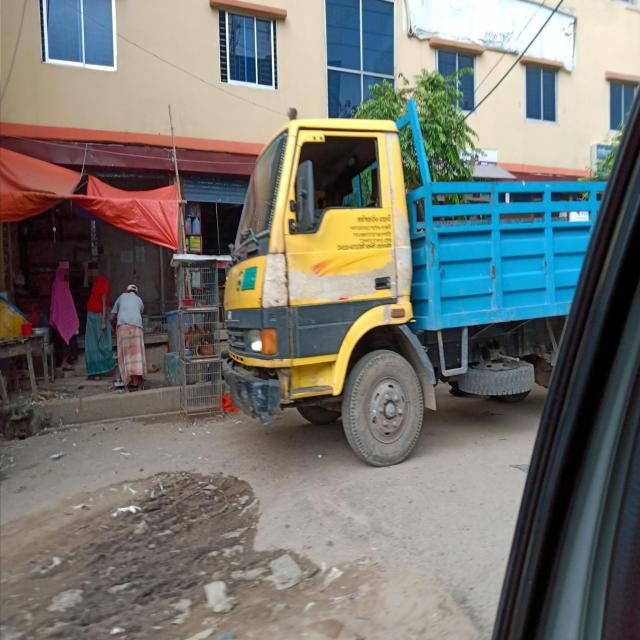truck: (208, 81, 622, 470)
